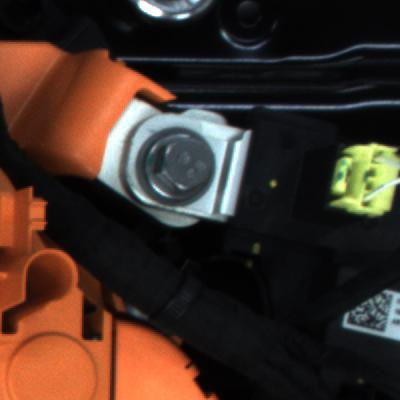nut_b: (134, 124, 230, 211)
